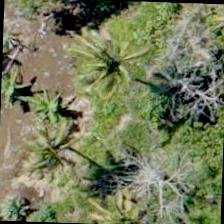Kelapa_Sawit: (52, 19, 145, 112), (132, 1, 223, 92)
